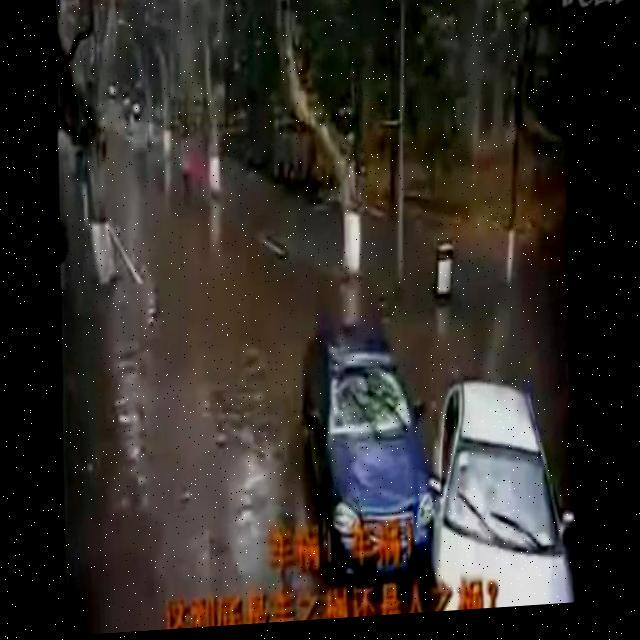multiple_accident: (283, 303, 550, 631)
